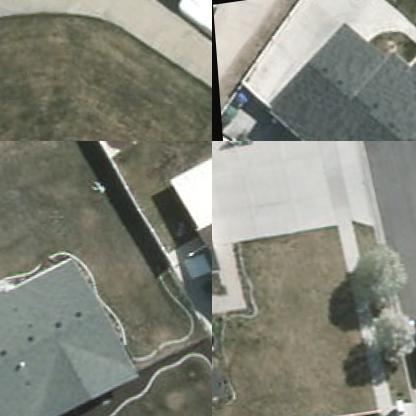car: (400, 314, 415, 378), (219, 123, 240, 140)
